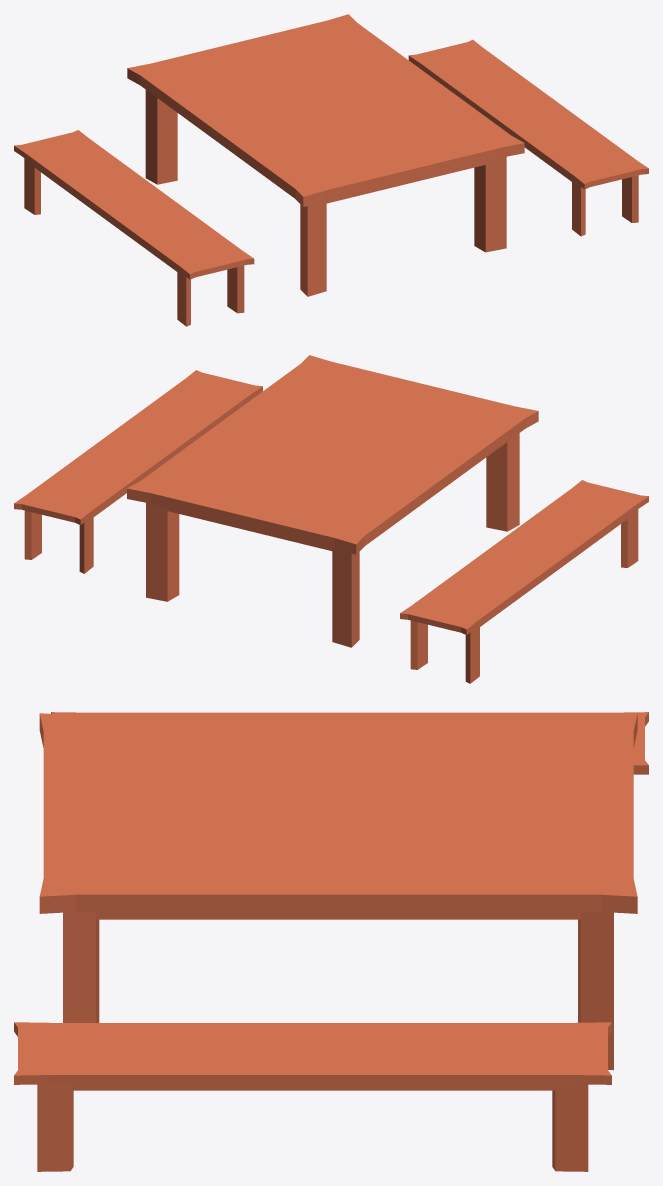
Rendered from table.glb.
3 renders of one model, top to bottom at view 1: azimuth 30°, elevation 25°; view 2: azimuth 150°, elevation 25°; view 3: azimuth 270°, elevation 25°, orthographic. The views are drawn at different scales.
Visible parts, largest first — view 1: Cube, Cube.002, Cube.001; view 2: Cube, Cube.002, Cube.001; view 3: Cube, Cube.001, Cube.002.
Boxes of the visible parts, bbox=[...] form: Cube: bbox=[127, 14, 524, 296]; Cube.002: bbox=[14, 130, 254, 326]; Cube.001: bbox=[408, 39, 648, 236]; Cube: bbox=[127, 355, 538, 647]; Cube.002: bbox=[400, 480, 648, 683]; Cube.001: bbox=[14, 370, 262, 573]; Cube: bbox=[39, 713, 637, 1070]; Cube.001: bbox=[14, 1022, 611, 1171]; Cube.002: bbox=[51, 712, 648, 774].
Size of what is drawn, in the model's own units: 8.81 by 2.09 by 6.37.
